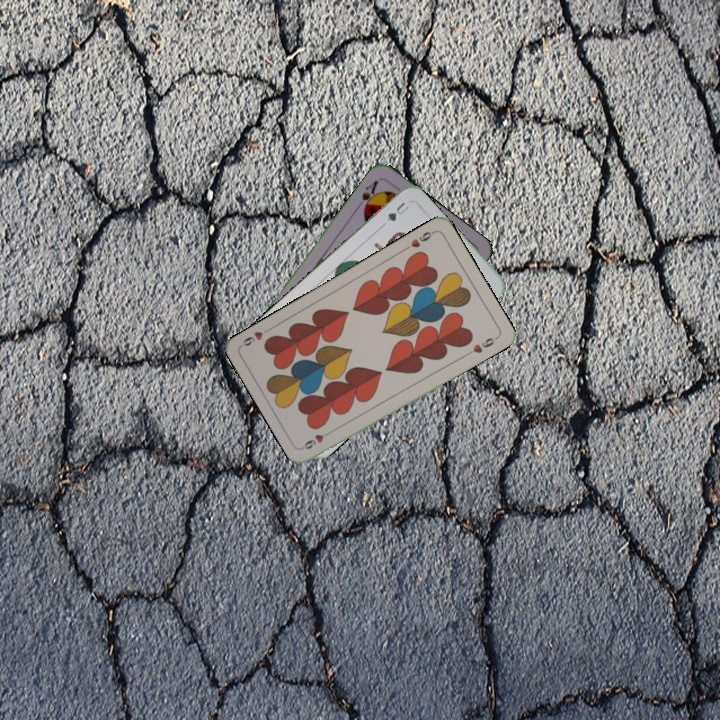GU: (383, 198, 412, 224)
H9: (401, 227, 438, 253), (299, 426, 336, 452)
SA: (353, 176, 381, 214)
